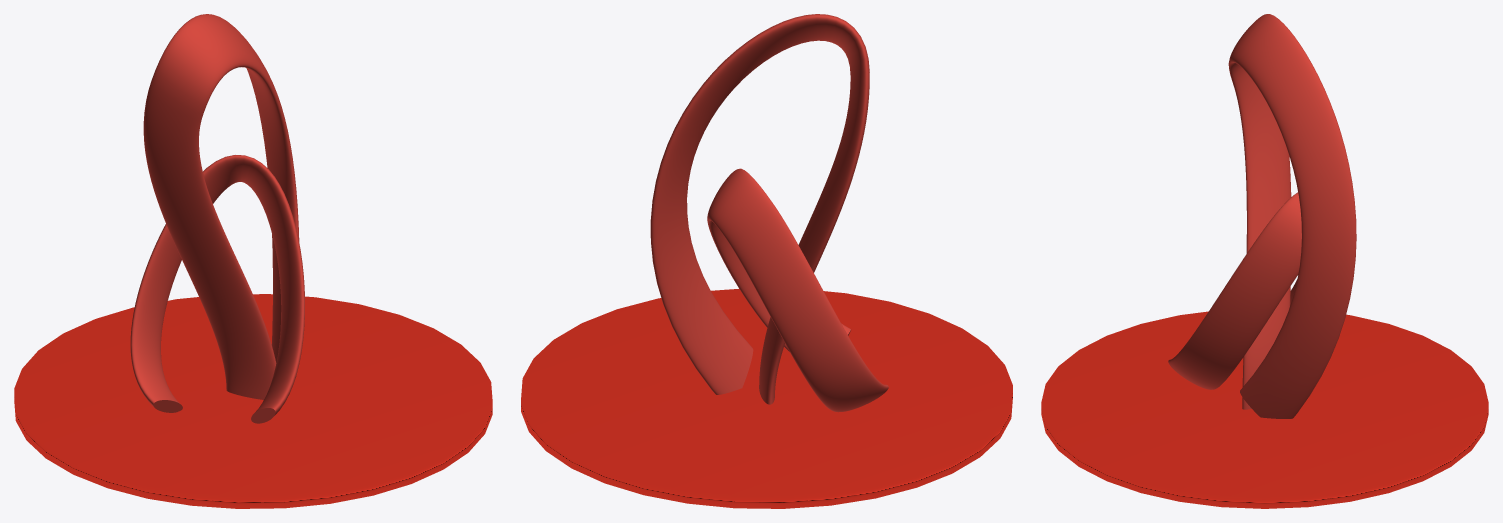
Rendered from Sculpture.fbx.
The picture shows the model from 3 angles, left to right: view 1: azimuth 30°, elevation 25°; view 2: azimuth 150°, elevation 25°; view 3: azimuth 270°, elevation 25°; orthographic projection. The views are drawn at different scales.
Visible parts, largest first — view 1: Cylinder, BezierCurve, BezierCurve.001; view 2: Cylinder, BezierCurve, BezierCurve.001; view 3: Cylinder, BezierCurve, BezierCurve.001.
Part boxes in pixels (x1,y1,x2,y2): Cylinder: [14, 294, 492, 508]; BezierCurve: [143, 14, 299, 399]; BezierCurve.001: [130, 155, 304, 423]; Cylinder: [521, 289, 1012, 508]; BezierCurve: [650, 14, 869, 404]; BezierCurve.001: [707, 168, 888, 412]; Cylinder: [1041, 311, 1488, 508]; BezierCurve: [1228, 14, 1356, 418]; BezierCurve.001: [1168, 192, 1301, 389].
Size of the model in its own units: 10.97 by 10.17 by 10.97.
